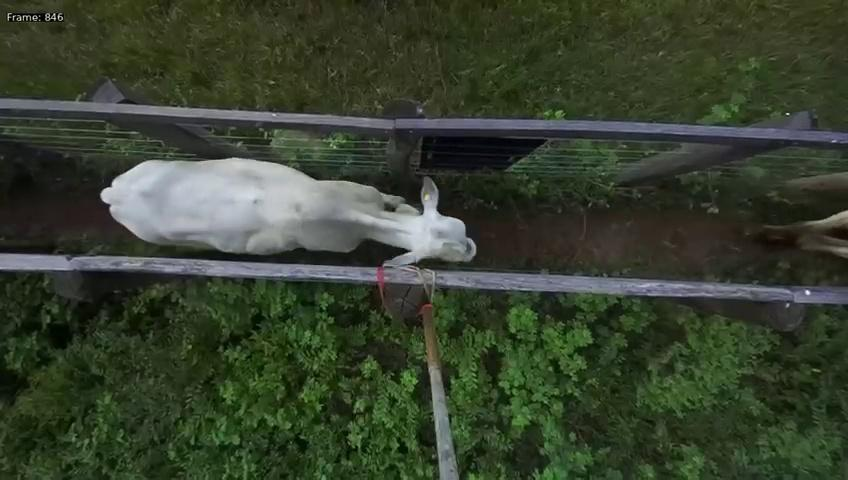cattle: (92, 131, 477, 265)
